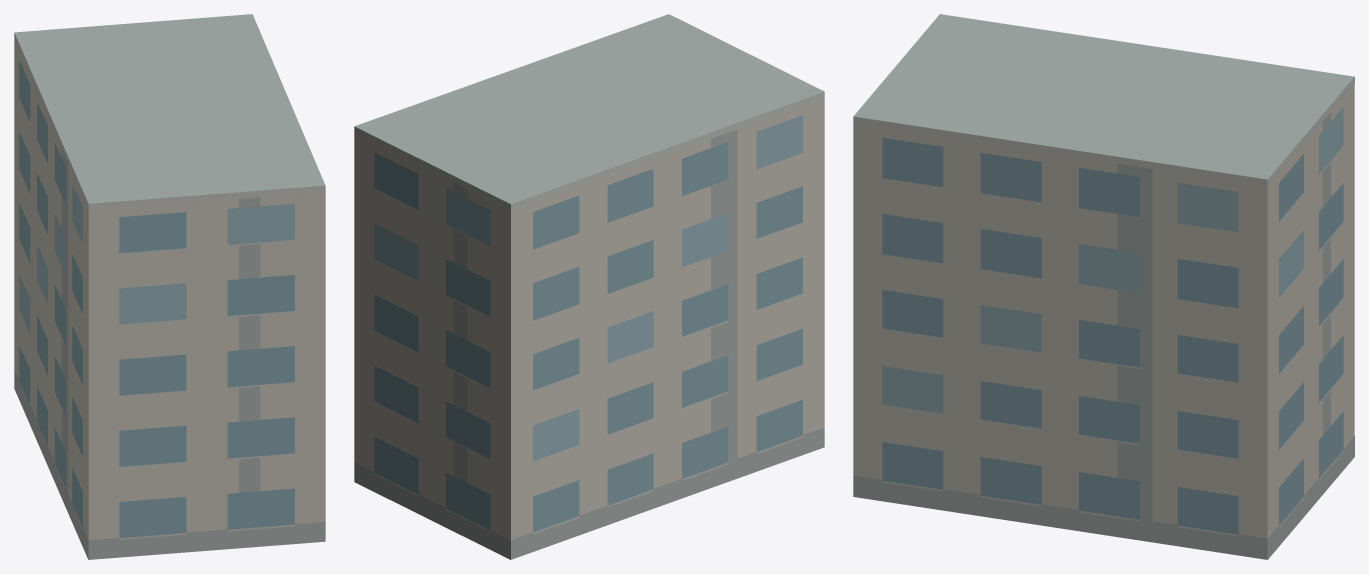
File: survey-upis-32885792.glb
3 views of the same model, side by side, from view 1: azimuth 30°, elevation 25°; view 2: azimuth 150°, elevation 25°; view 3: azimuth 270°, elevation 25° (orthographic). The views are drawn at different scales.
Parts seen in each view (by area): view 1: survey-upis-32885792.tmp; view 2: survey-upis-32885792.tmp; view 3: survey-upis-32885792.tmp.
Boxes of the visible parts, x1,y1,x2,y2 form: survey-upis-32885792.tmp: [14, 14, 325, 559]; survey-upis-32885792.tmp: [354, 14, 824, 559]; survey-upis-32885792.tmp: [853, 14, 1354, 559].
Bounding box in the file's own units: 12.52 × 13.4 × 16.02.
